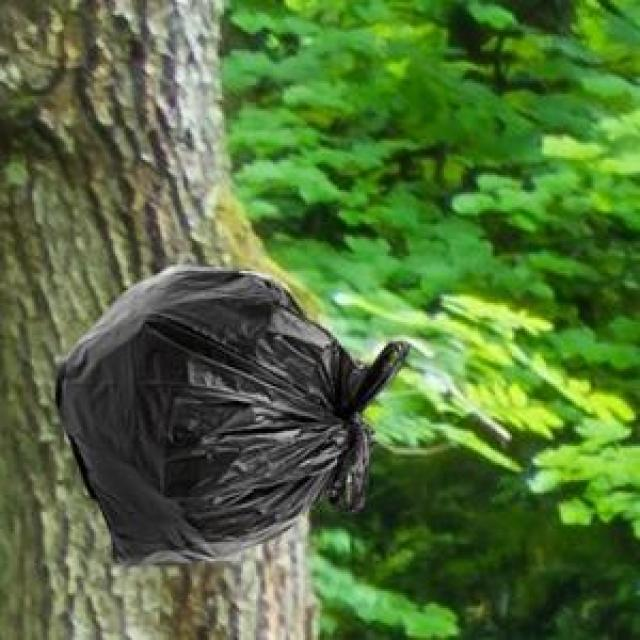Vinyl: (54, 266, 390, 556)
